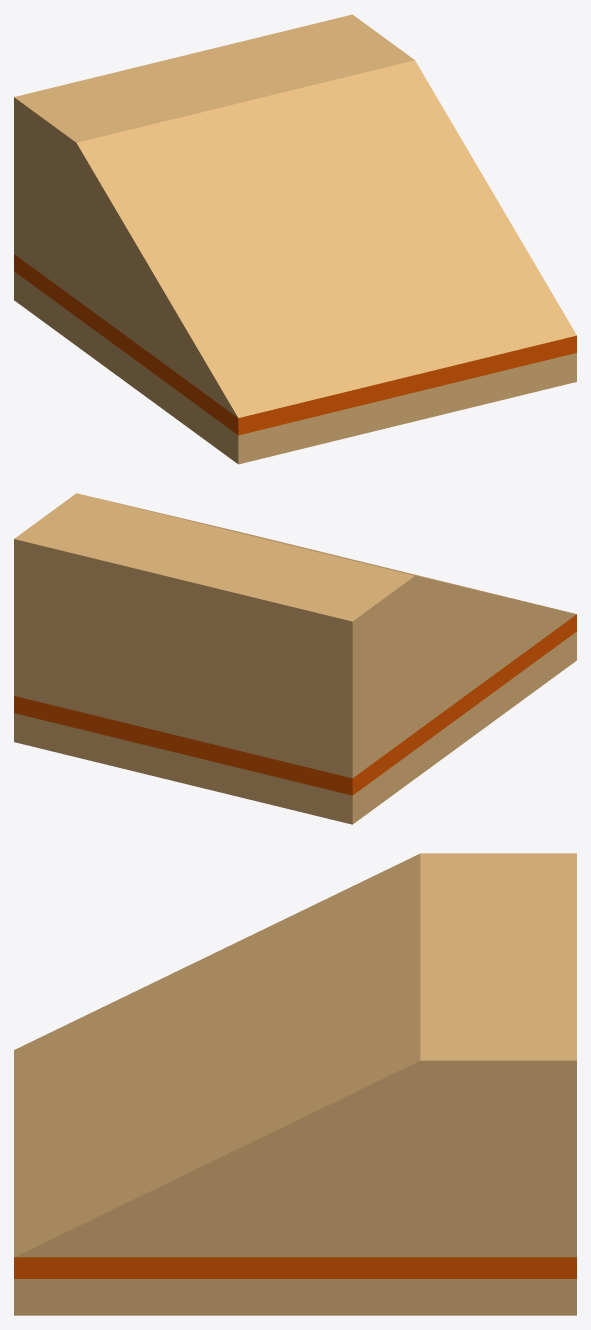
3 views of the same model, one above another, from view 1: azimuth 30°, elevation 25°; view 2: azimuth 150°, elevation 25°; view 3: azimuth 270°, elevation 25° (orthographic). The views are drawn at different scales.
Parts seen in each view (by area): view 1: 立方体.052; view 2: 立方体.052; view 3: 立方体.052.
Boxes of the visible parts, <box> form: 立方体.052: <box>14,14,576,464</box>; 立方体.052: <box>14,493,576,824</box>; 立方体.052: <box>14,853,576,1315</box>.
Bounding box in the file's own units: 421 × 366 × 210.
